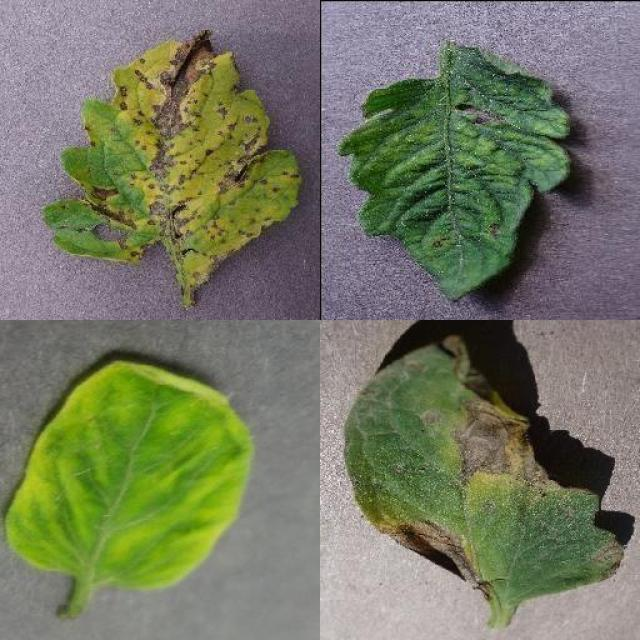Early Blight: (346, 335, 625, 603)
Septoria: (46, 25, 302, 287)
